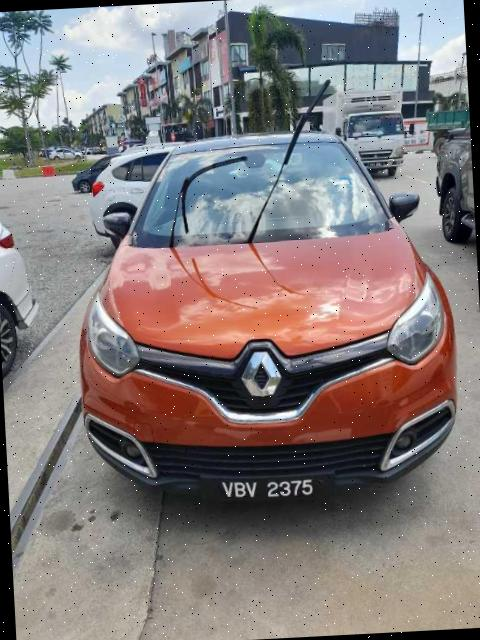License_Plate: (211, 472, 332, 508)
car: (68, 122, 466, 511)
